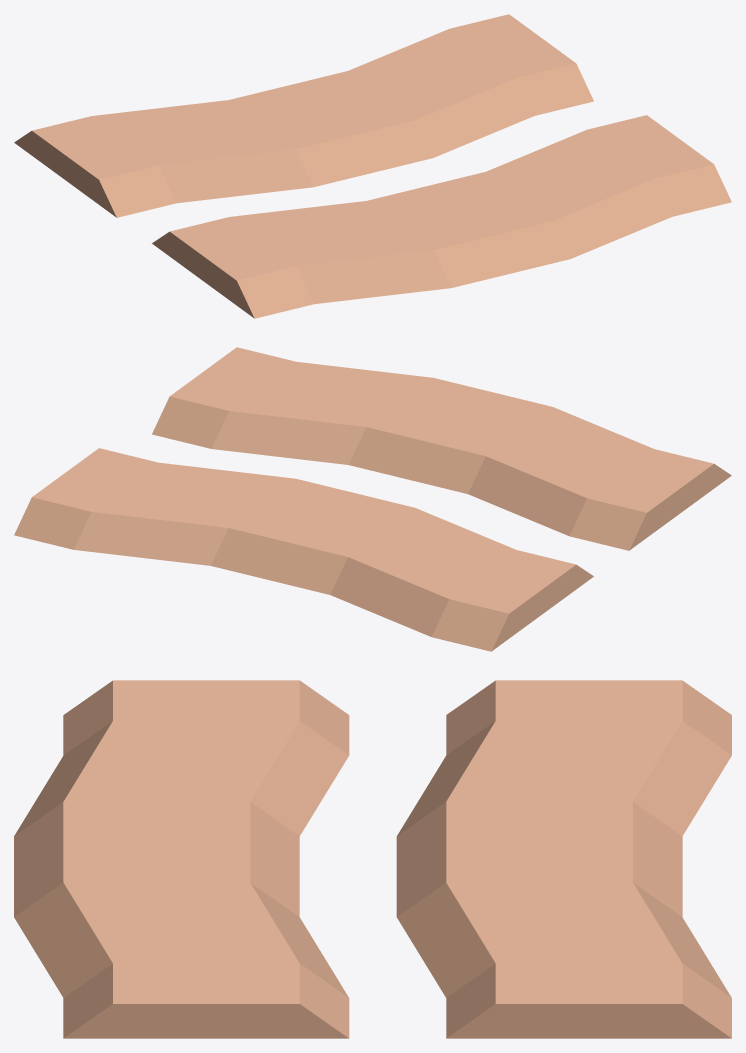
File: crops_dirtDoubleRow.glb
3 renders of one model, top to bottom at view 1: azimuth 30°, elevation 25°; view 2: azimuth 150°, elevation 25°; view 3: azimuth 270°, elevation 25°, orthographic. The views are drawn at different scales.
Visible parts, largest first — view 1: crops_dirtDoubleRow; view 2: crops_dirtDoubleRow; view 3: crops_dirtDoubleRow.
Part boxes in pixels (x1=…): crops_dirtDoubleRow: x1=14, y1=14, x2=731, y2=318; crops_dirtDoubleRow: x1=14, y1=347, x2=731, y2=651; crops_dirtDoubleRow: x1=14, y1=680, x2=731, y2=1038.
Bounding box in the file's own units: 1 × 0.05 × 0.938.
